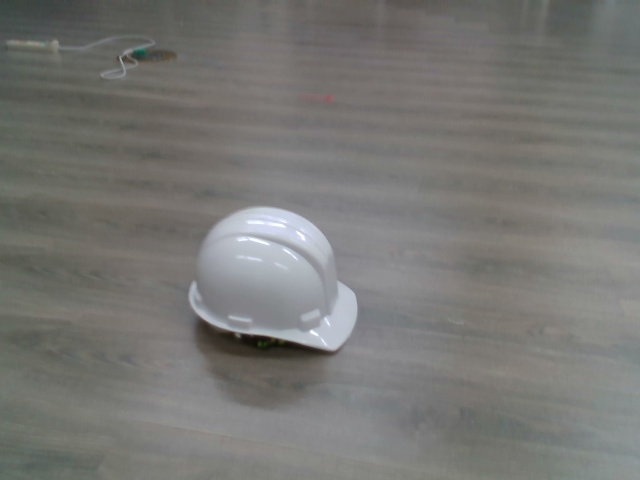helmet: (183, 200, 363, 360)
